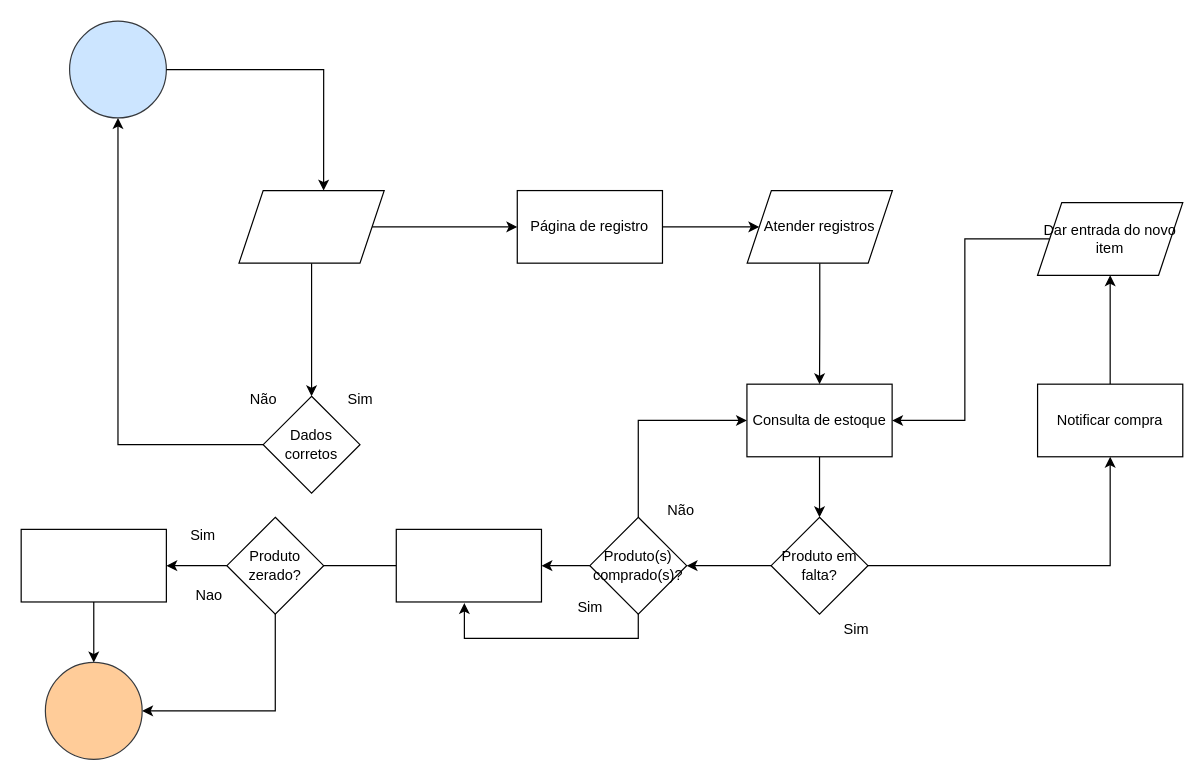
Some shapes in this 1204 by 780 pixel diagram are drawn without their labels. The shapes that lost their labels are listed below. From the top down, each one's centre as x and y in pixels, then its label:
At point (117, 69): "Início".
At point (311, 226): "Login / Cadastro".
At point (93, 565): "Excluir".
At point (468, 565): "Dar baixa".
At point (93, 710): "Fim".
